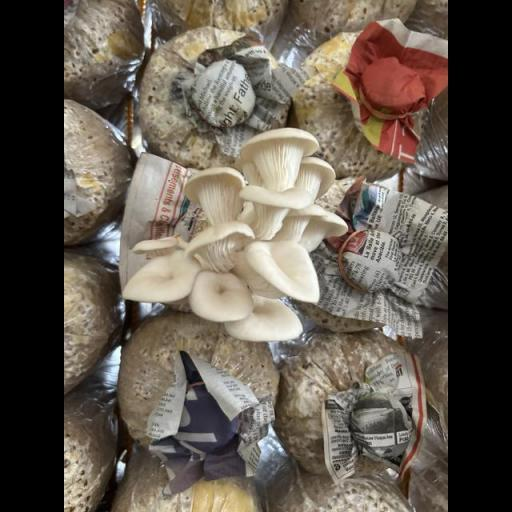White Oyster Mushroom: (118, 120, 360, 351)
